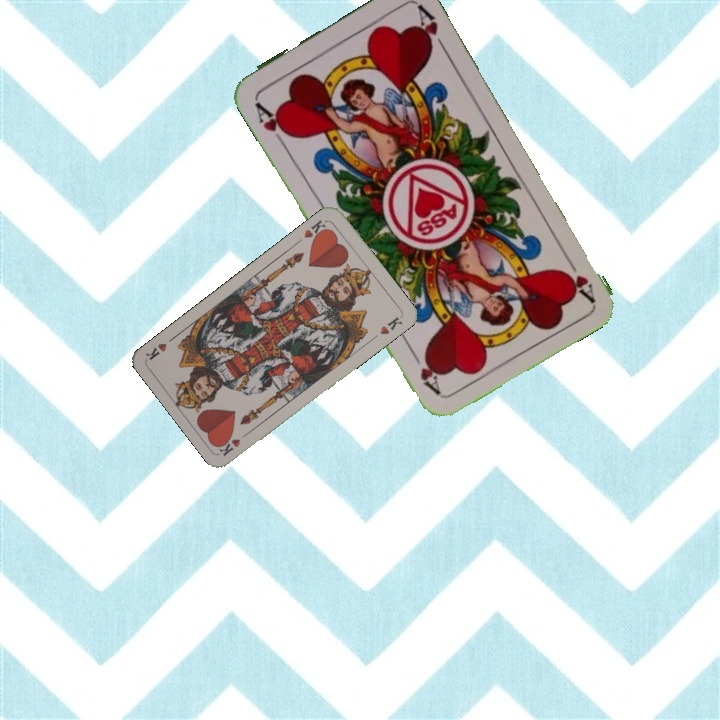HA: (250, 95, 293, 149), (558, 249, 597, 304)
HK: (215, 427, 253, 459), (300, 216, 331, 244)
